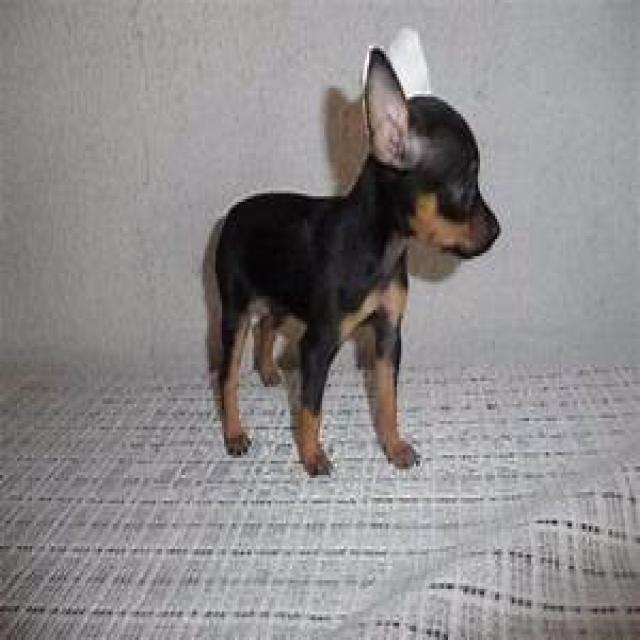dog: (201, 51, 501, 478)
